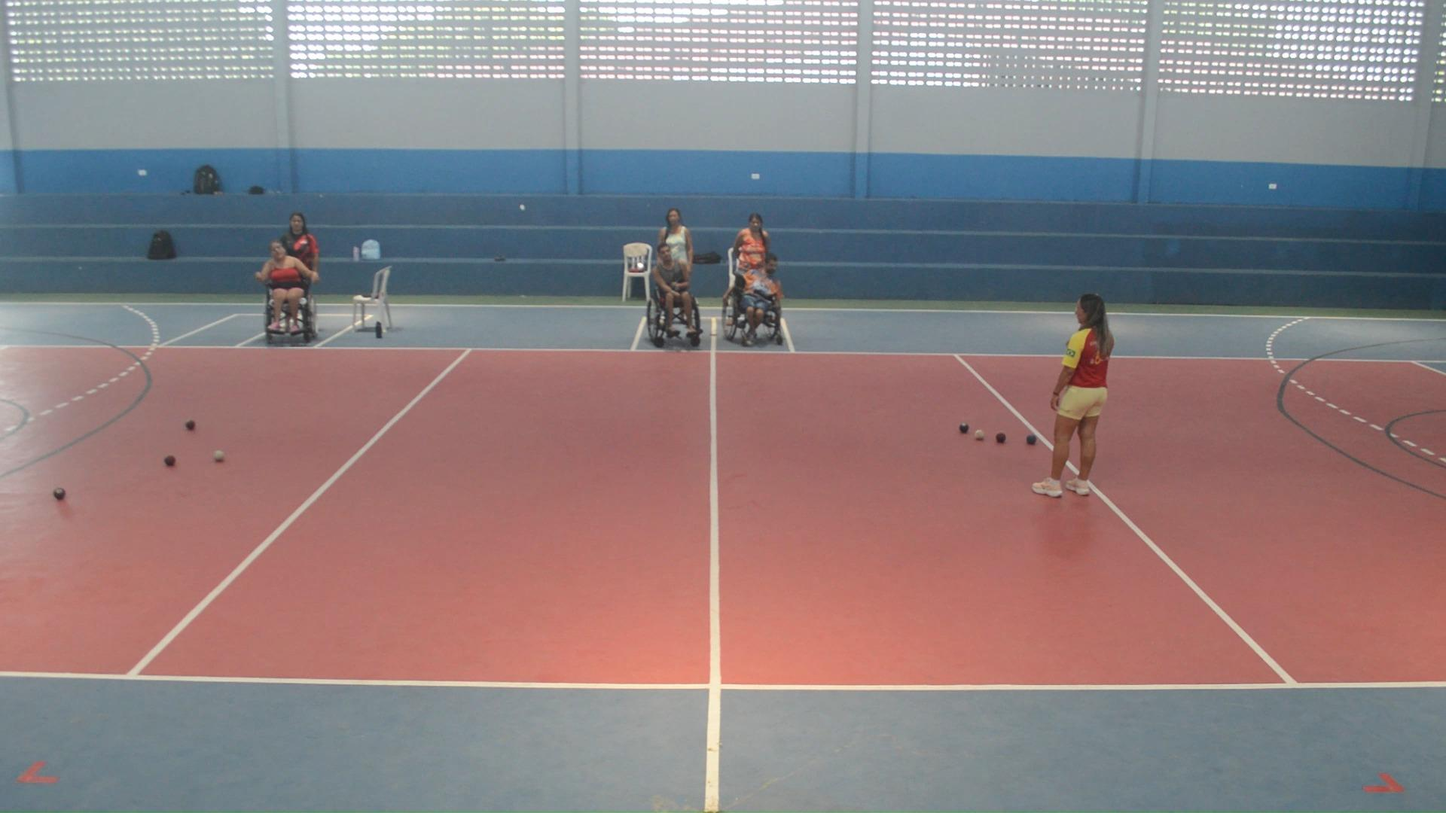blue_ball: (1026, 434, 1037, 444), (959, 423, 969, 433)
red_ball: (164, 455, 176, 467), (54, 487, 66, 499), (186, 419, 196, 431), (996, 432, 1006, 443)
white_ball: (213, 450, 224, 461), (975, 430, 984, 440)
